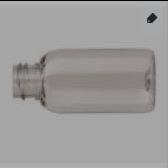bottle: (7, 42, 158, 119)
